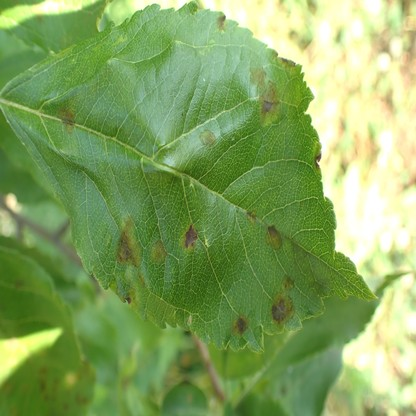scab: (37, 361, 95, 416), (117, 218, 141, 266), (258, 79, 280, 127), (271, 295, 296, 325), (116, 277, 139, 307), (272, 50, 297, 74), (181, 222, 197, 253), (58, 104, 75, 133), (265, 227, 282, 251), (232, 313, 249, 335), (248, 68, 265, 88), (314, 141, 323, 177), (280, 274, 295, 293), (152, 241, 165, 262), (199, 130, 215, 147), (198, 39, 213, 57), (139, 269, 147, 291), (216, 15, 225, 32), (247, 210, 257, 225), (14, 279, 24, 291)
